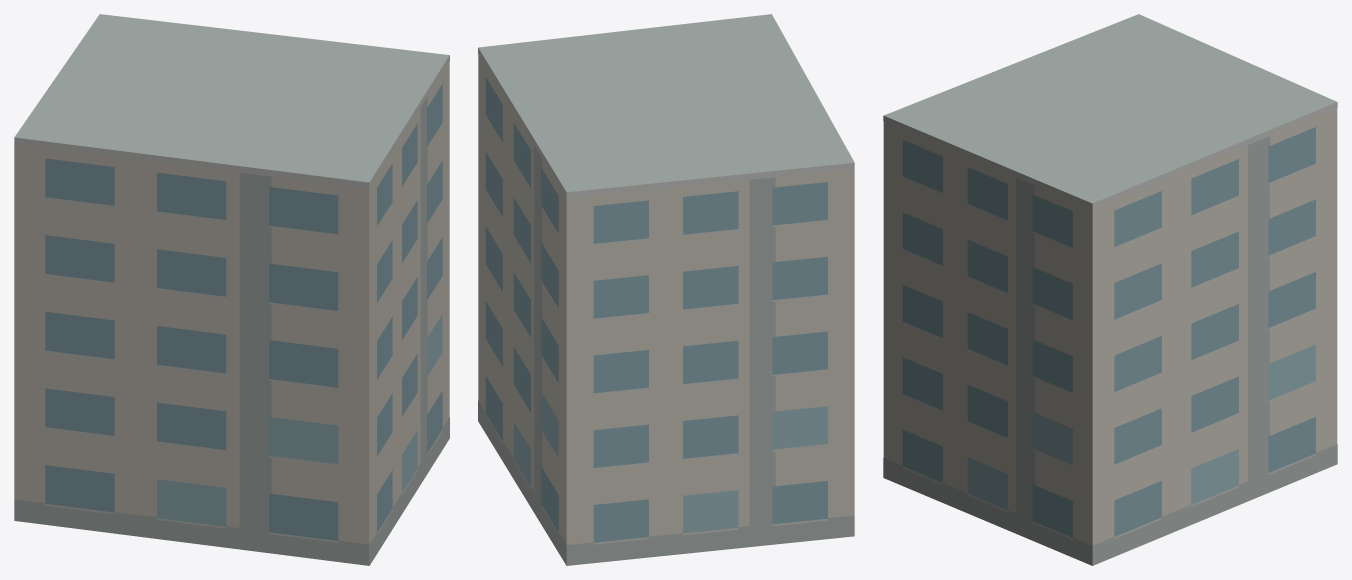
The model's file is survey-upis-32885809.glb.
3 views of the same model, side by side, from view 1: azimuth 30°, elevation 25°; view 2: azimuth 150°, elevation 25°; view 3: azimuth 270°, elevation 25° (orthographic). The views are drawn at different scales.
Parts seen in each view (by area): view 1: survey-upis-32885809.tmp; view 2: survey-upis-32885809.tmp; view 3: survey-upis-32885809.tmp.
Boxes of the visible parts, <box> form: survey-upis-32885809.tmp: <box>14,14,449,565</box>; survey-upis-32885809.tmp: <box>478,14,854,565</box>; survey-upis-32885809.tmp: <box>883,14,1337,565</box>.
Bounding box in the file's own units: 16.12 × 14.36 × 16.31.
